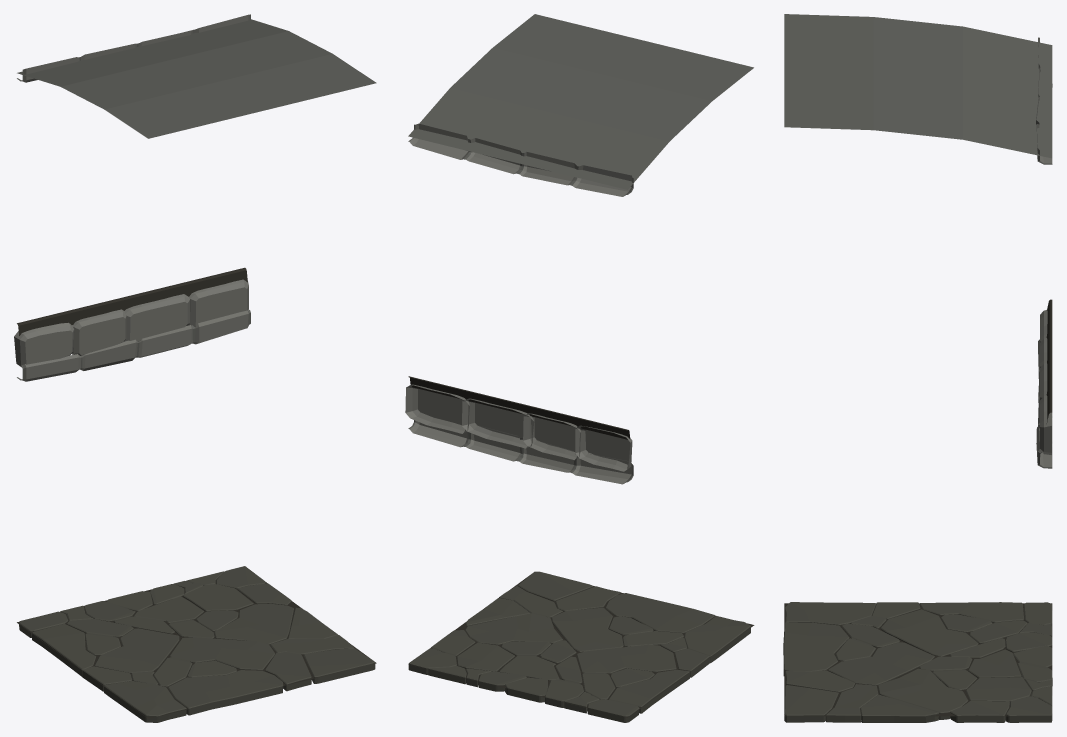
The model's file is Dungeon_Hall_Wall.glb.
The picture shows the model from 3 angles, left to right: view 1: azimuth 30°, elevation 25°; view 2: azimuth 150°, elevation 25°; view 3: azimuth 270°, elevation 25°; orthographic projection. The views are drawn at different scales.
Parts seen in each view (by area): view 1: Dungeon_Hall_Wall.001; view 2: Dungeon_Hall_Wall.001; view 3: Dungeon_Hall_Wall.001.
Boxes of the visible parts, x1,y1,x2,y2 form: Dungeon_Hall_Wall.001: (14, 14, 376, 722); Dungeon_Hall_Wall.001: (405, 14, 754, 722); Dungeon_Hall_Wall.001: (783, 14, 1052, 722).
Bounding box in the file's own units: 4.1 × 9.82 × 4.02.
2 materials, 2 textured.
